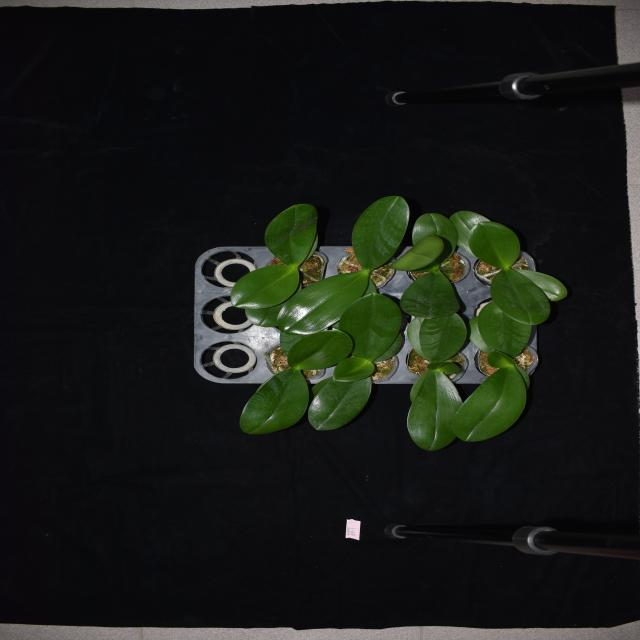leaf: (268, 269, 374, 325), (455, 358, 528, 438), (350, 190, 411, 266), (244, 368, 306, 432), (410, 371, 461, 448), (312, 367, 374, 429), (347, 294, 398, 357), (231, 264, 300, 309), (269, 204, 322, 262), (495, 269, 552, 321), (482, 300, 534, 354), (401, 269, 460, 315), (471, 222, 529, 267), (412, 211, 459, 260), (412, 316, 463, 361), (287, 332, 349, 365), (335, 356, 383, 383), (486, 349, 520, 369)
